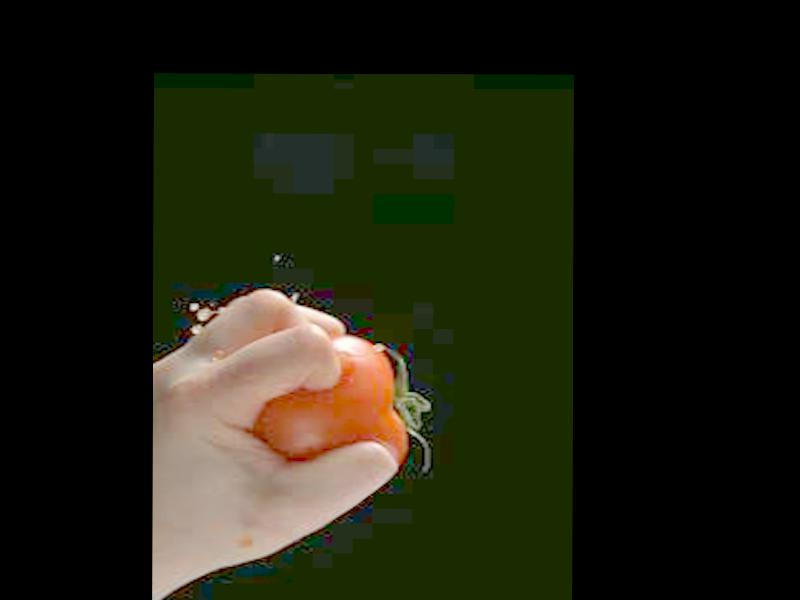Tomato: (254, 336, 407, 465)
